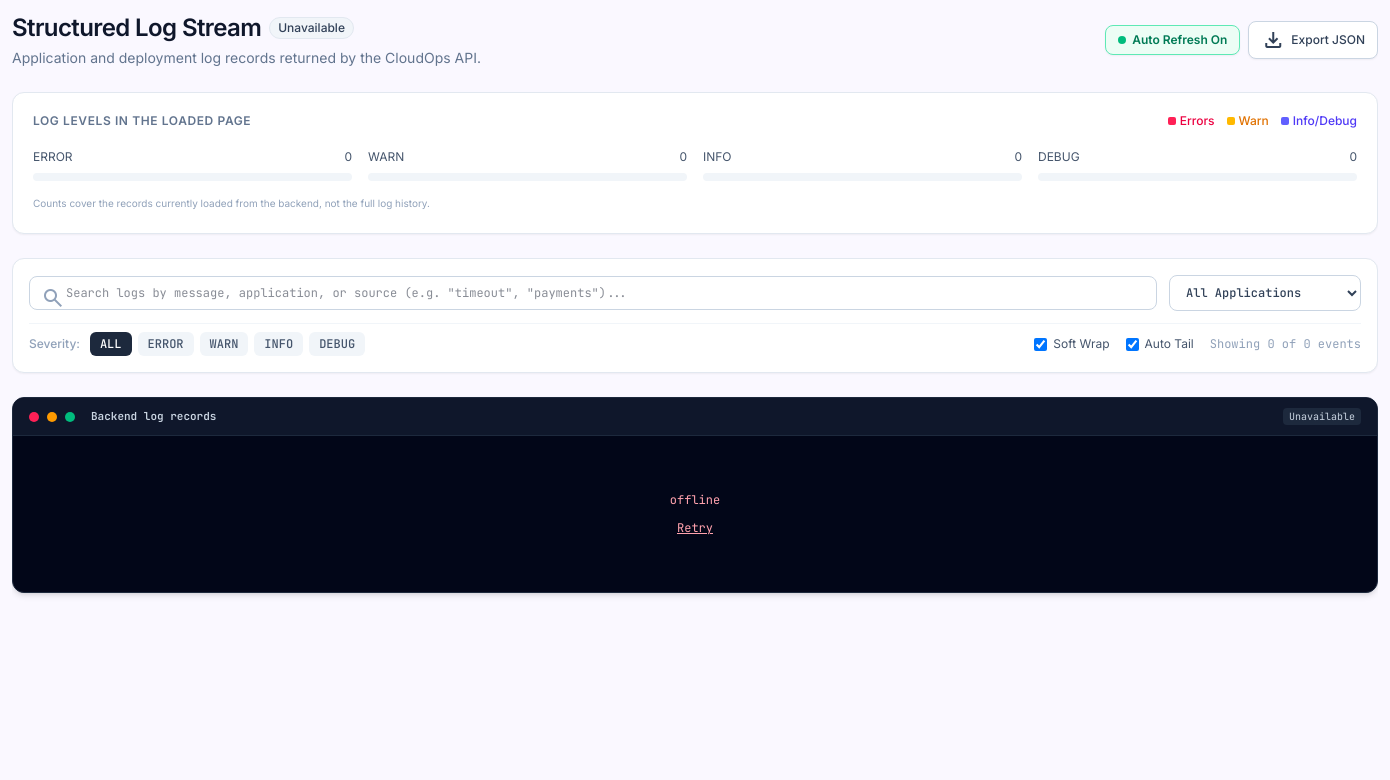
it: LogsPage › shows empty, loading, and retryable error states without fixture log records
Expected: the text "offline" is shown, [670,492,720,508]
Click the button "Retry".
click(695, 528)  # box [677,520,713,536]
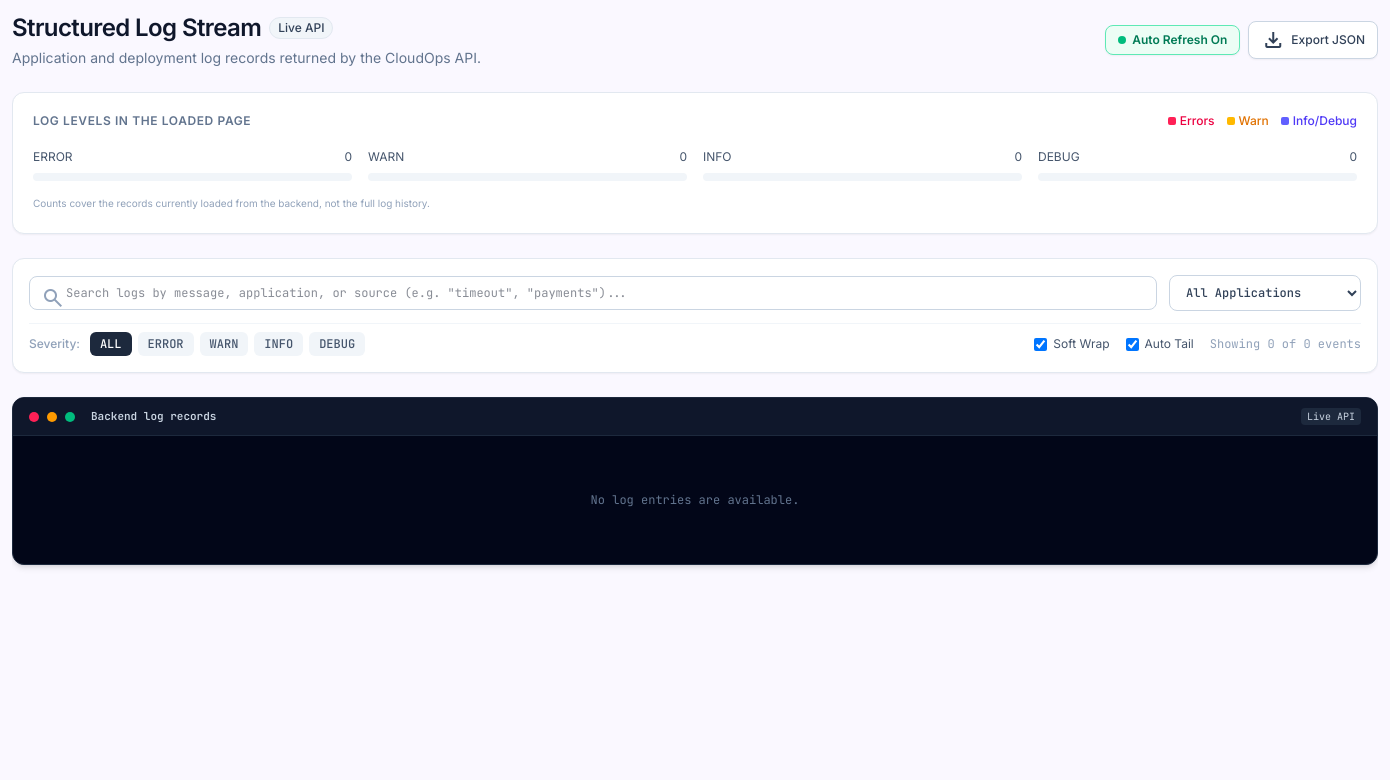
Now the text "No log entries are available." is shown, box [591,492,799,508]
